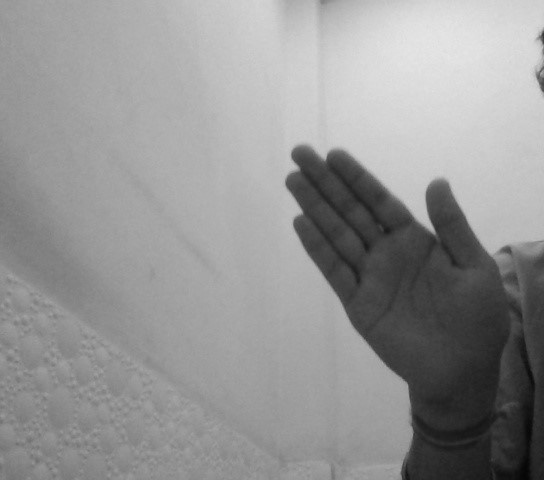Hello: (282, 139, 514, 402)
